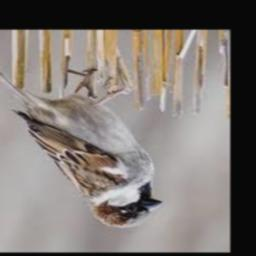Sparrow: (0, 60, 163, 229)
